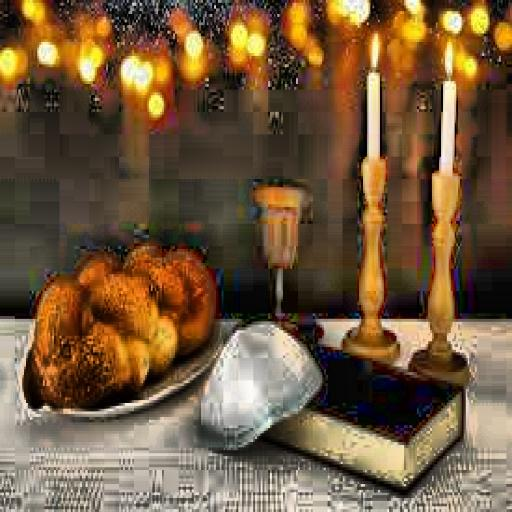fire: (438, 34, 456, 81), (367, 28, 378, 67)
